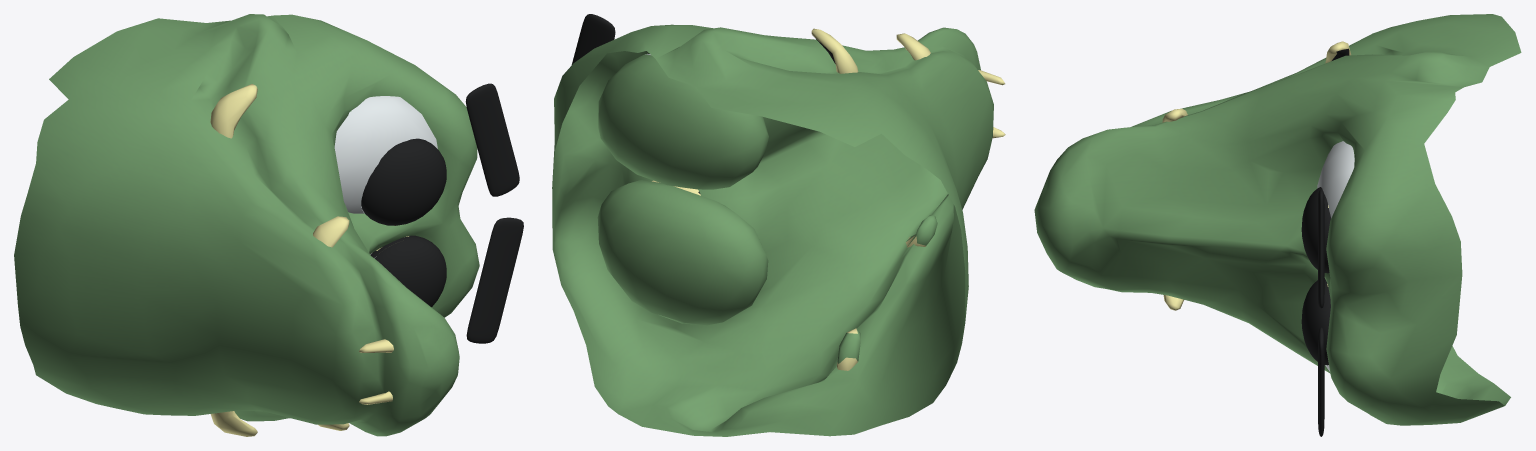
Rendered from GatorMask.fbx.
3 views of the same model, side by side, from view 1: azimuth 30°, elevation 25°; view 2: azimuth 150°, elevation 25°; view 3: azimuth 270°, elevation 25° (orthographic). The views are drawn at different scales.
Parts seen in each view (by area): view 1: Cube.001; view 2: Cube.001; view 3: Cube.001.
Boxes of the visible parts, x1=… form: Cube.001: x1=14, y1=14, x2=523, y2=436; Cube.001: x1=552, y1=14, x2=1005, y2=436; Cube.001: x1=1034, y1=14, x2=1521, y2=436.
Bounding box in the file's own units: 0.1457 × 0.119 × 0.1446.
